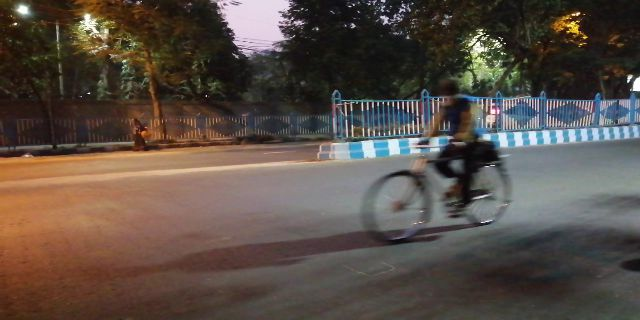Cycle: (359, 76, 514, 246)
